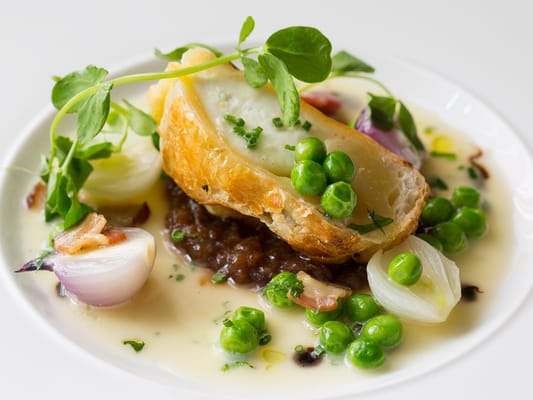sushi: (28, 23, 533, 397)
